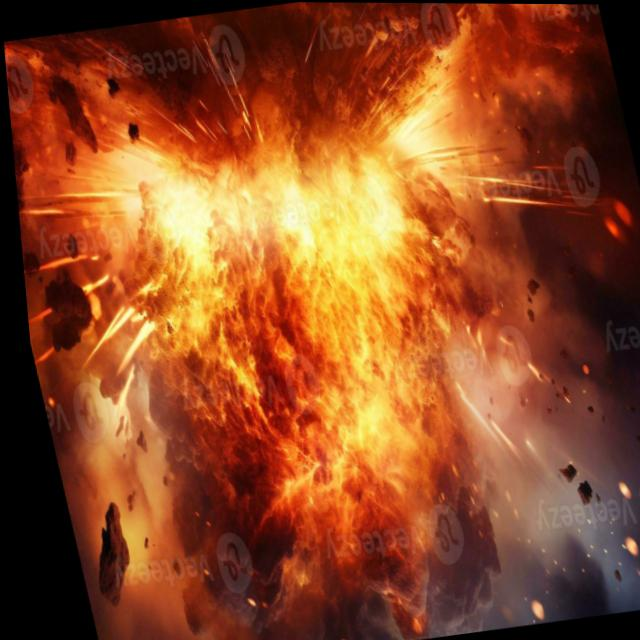Fire: (100, 110, 504, 520)
